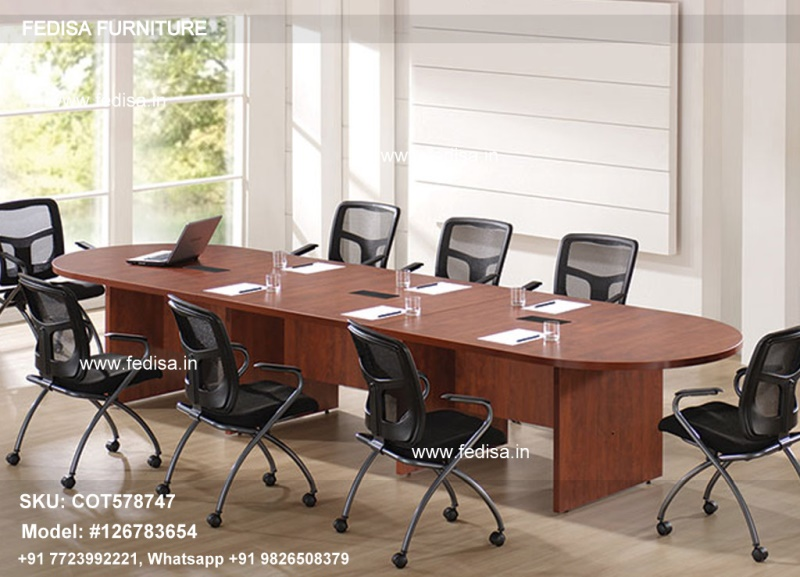conference_table: (52, 239, 744, 514)
